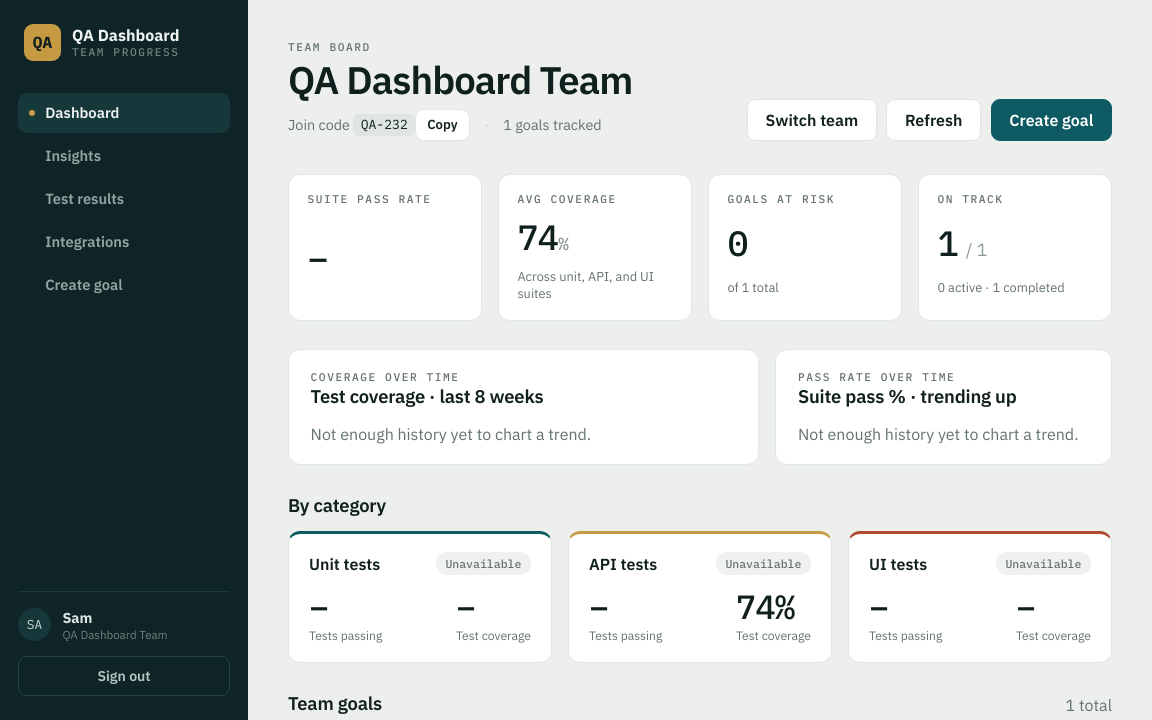
DashboardPage › re-fetches the dashboard after a successful metric refresh
Expected: the text "74%" is shown, [736,585,794,628]
Click the button "Refresh" at point(934, 120), box [886,99,981,141]
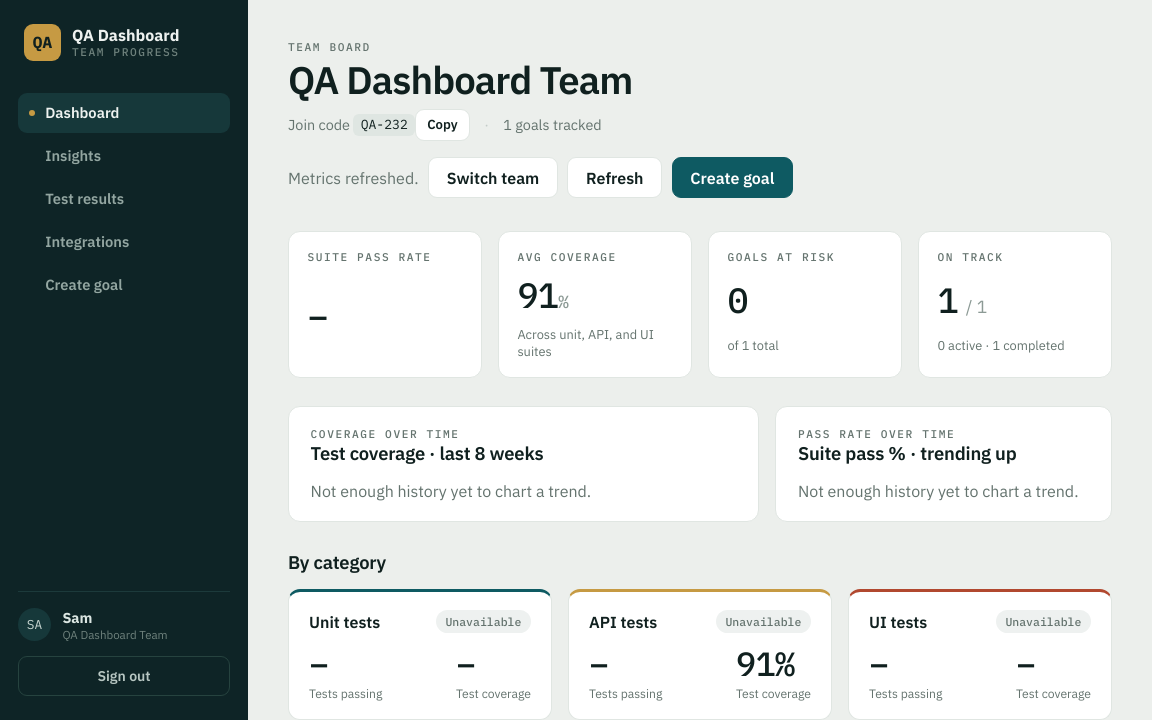
Now the text "91%" is shown, box [736,642,794,686]
